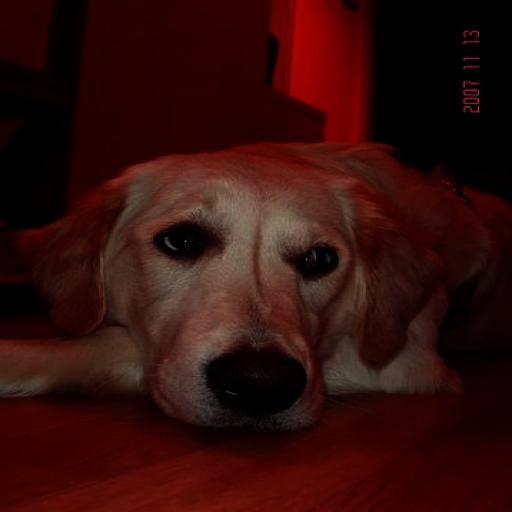dog_face: (50, 156, 449, 435)
